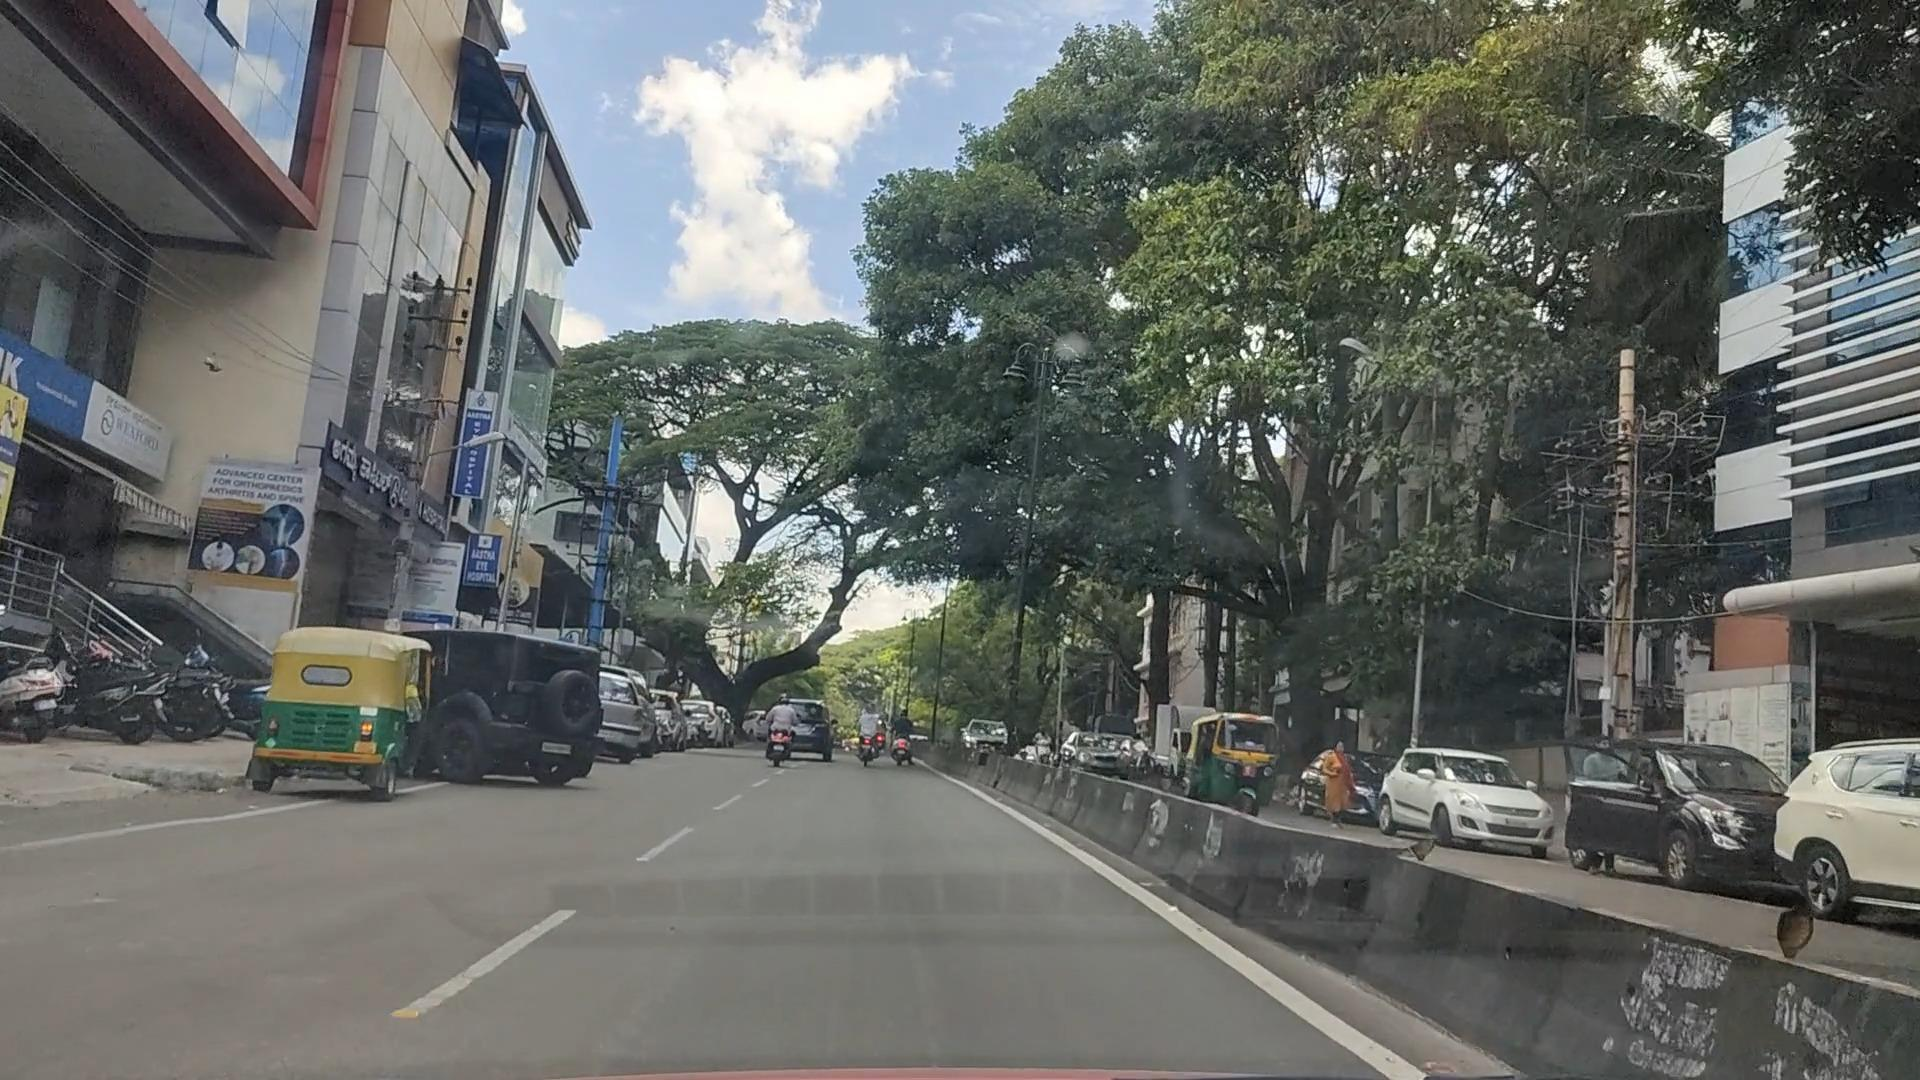LMV: (261, 636, 384, 806), (454, 647, 585, 778)
